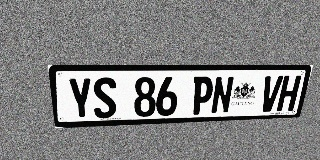6: (156, 77, 179, 116)
8: (134, 77, 157, 117)
H: (276, 76, 302, 111)
N: (210, 76, 235, 114)
P: (190, 76, 214, 115)
S: (92, 77, 117, 119)
V: (258, 76, 284, 112)
Y: (67, 78, 94, 120)
